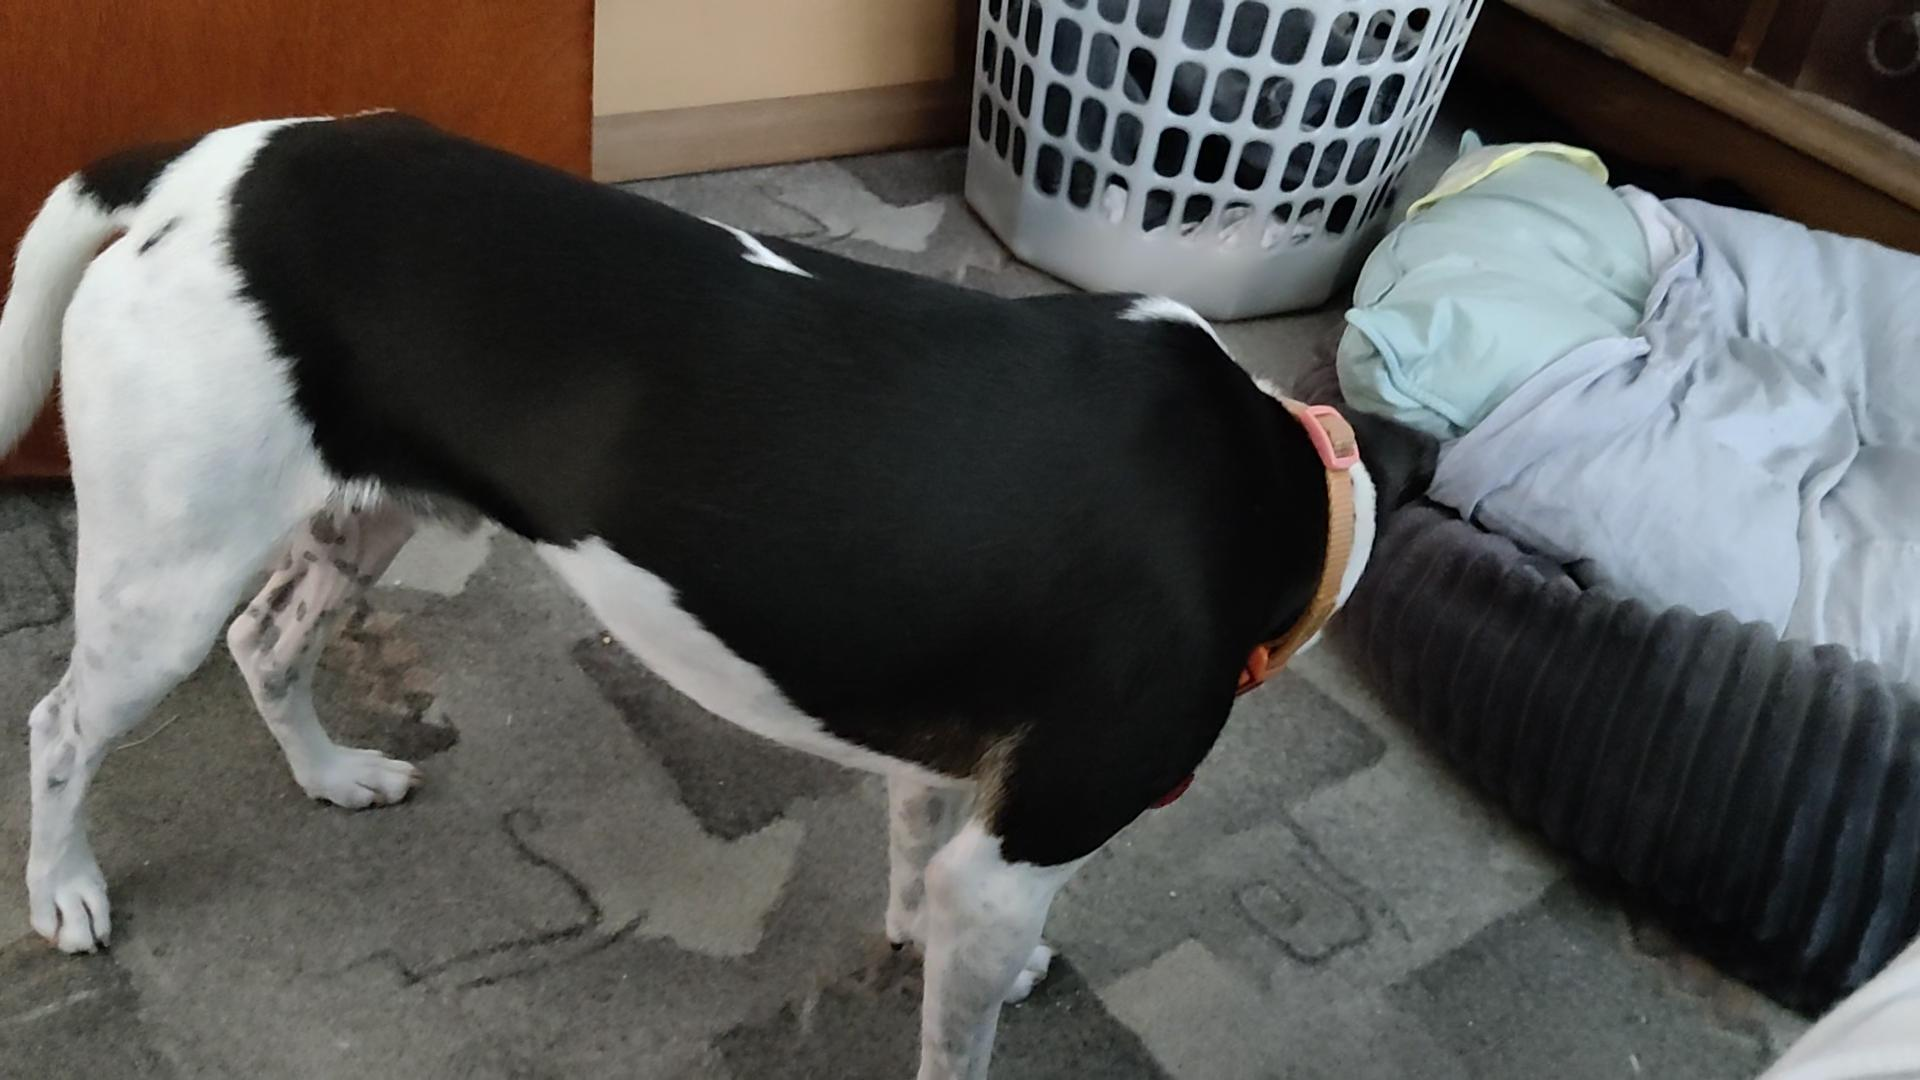Dog: (0, 103, 1443, 1079)
